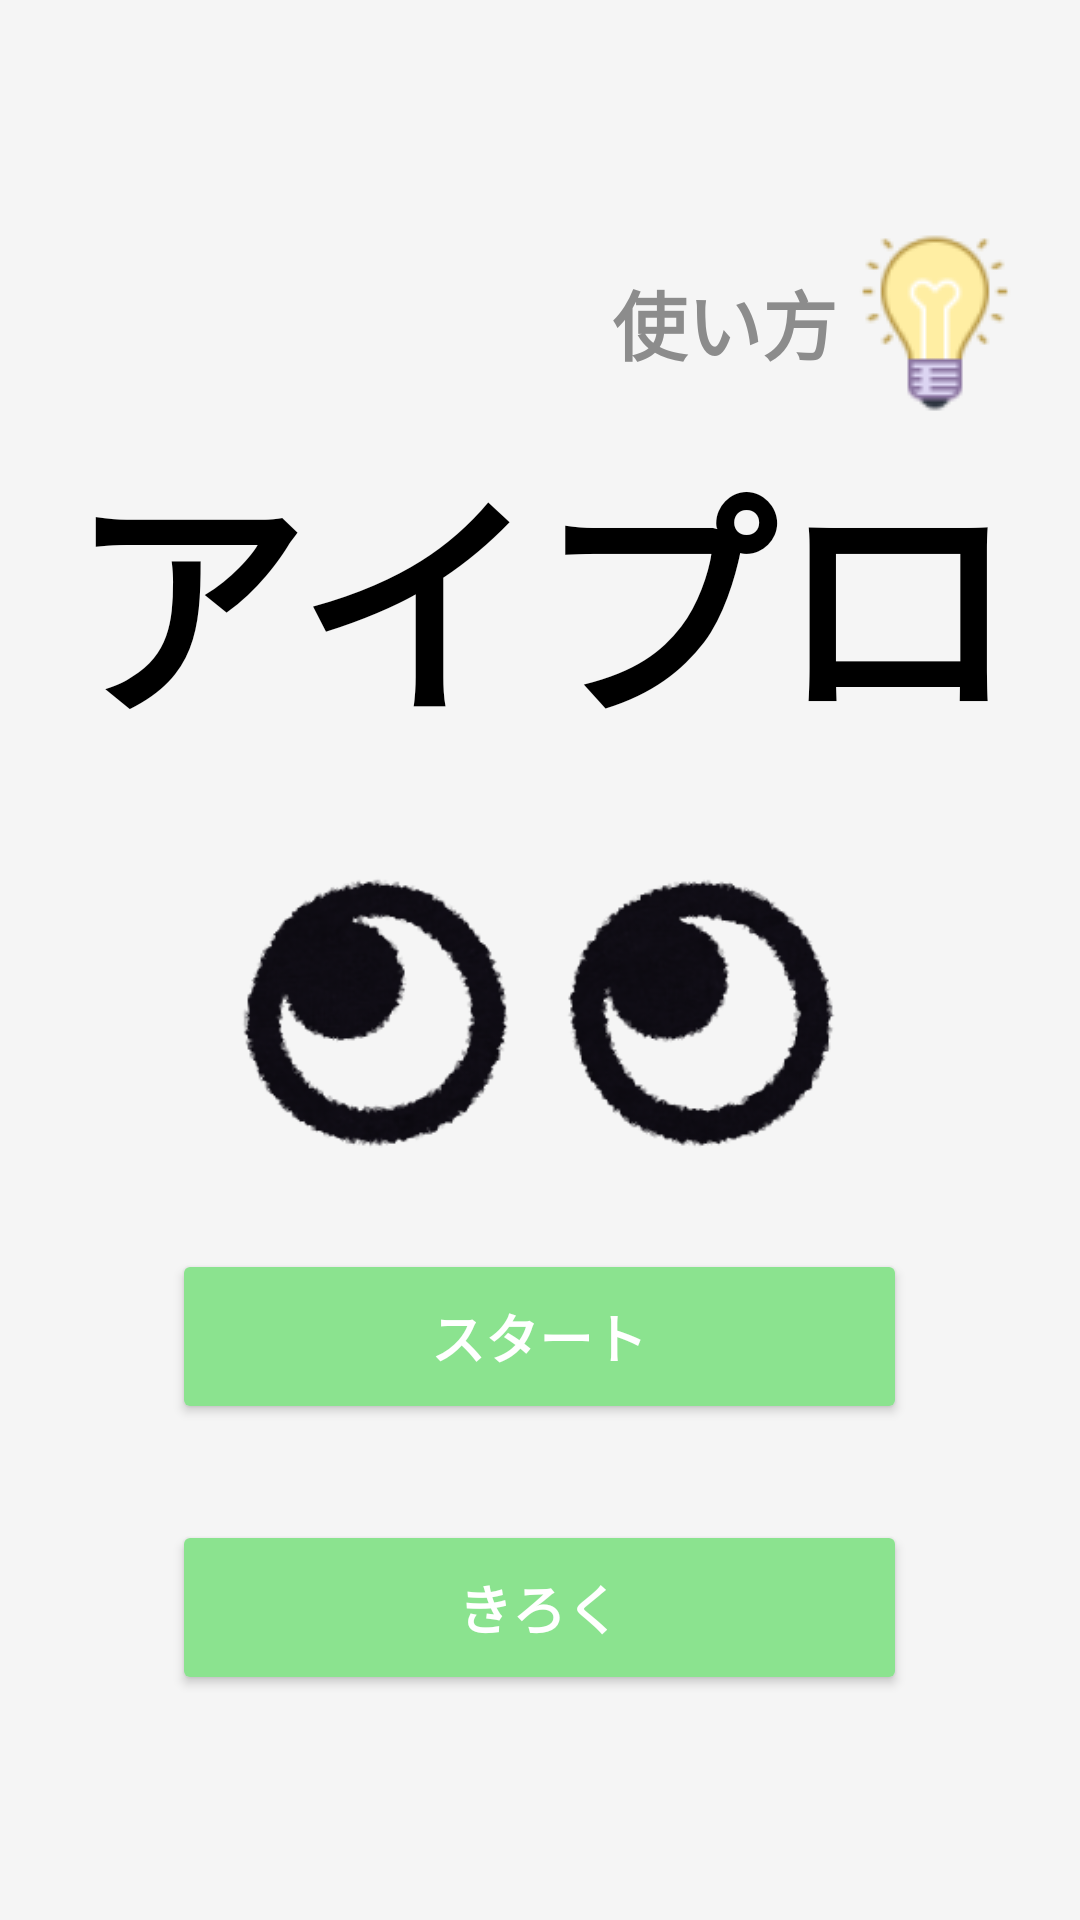

Where icons sit on this 1080w x 1920h app screen, as [left=x1, top=y1, right=x2, bottom=y2]:
icontips: [left=862, top=235, right=1008, bottom=411]
